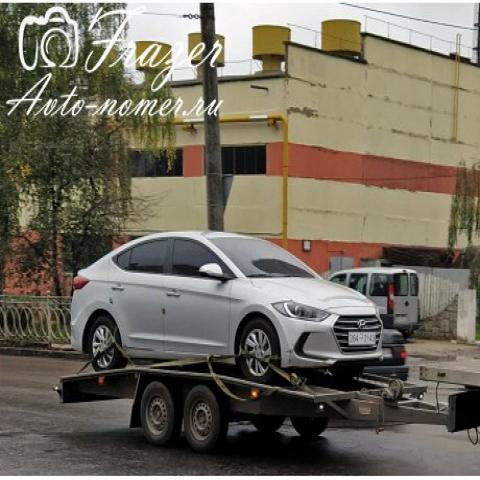LP: (343, 324, 381, 352)
